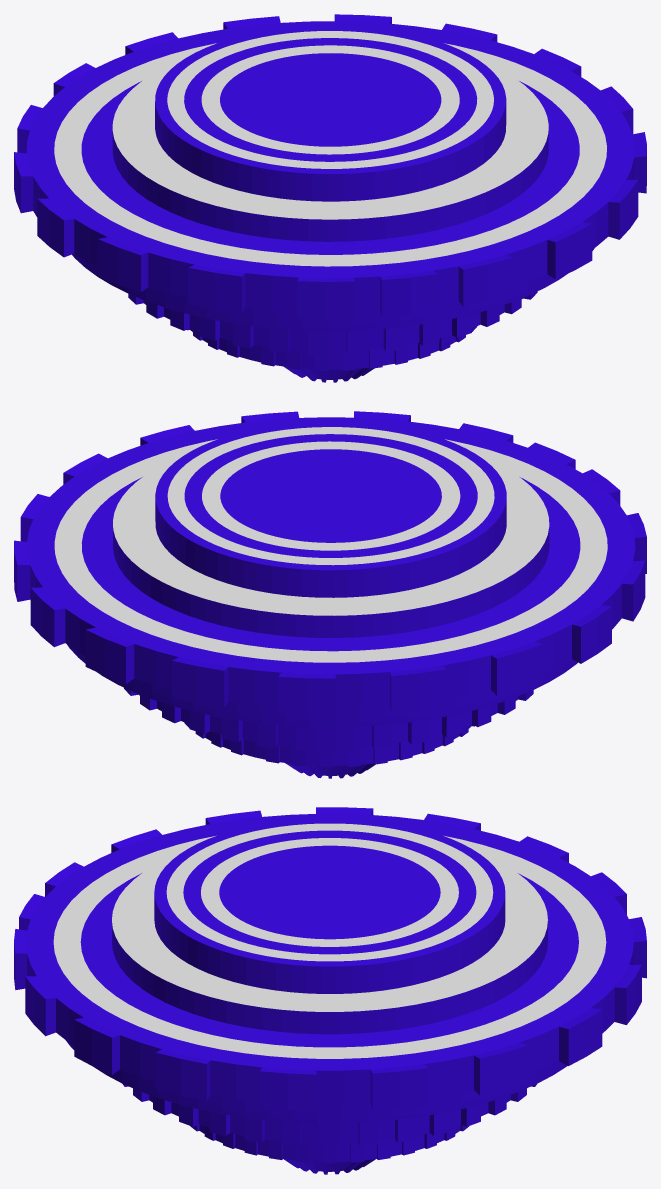
The model's file is Tip-3.fbx.
3 views of the same model, one above another, from view 1: azimuth 30°, elevation 25°; view 2: azimuth 150°, elevation 25°; view 3: azimuth 270°, elevation 25° (orthographic).
Parts seen in each view (by area): view 1: Cylinder.001; view 2: Cylinder.001; view 3: Cylinder.001.
Part boxes in pixels (left/top/right/bottom): Cylinder.001: left=14, top=14, right=646, bottom=382; Cylinder.001: left=14, top=411, right=646, bottom=778; Cylinder.001: left=14, top=807, right=646, bottom=1174.
Bounding box in the file's own units: 68.24 × 31.52 × 68.31.
